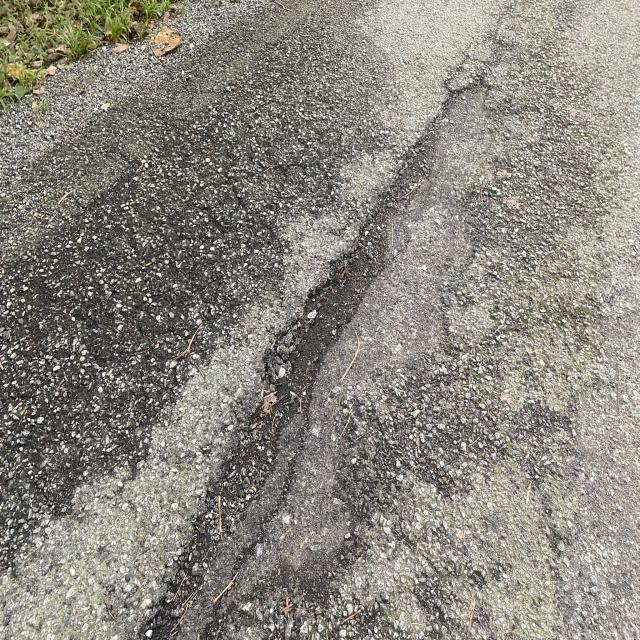Pothole: (160, 160, 375, 503)
